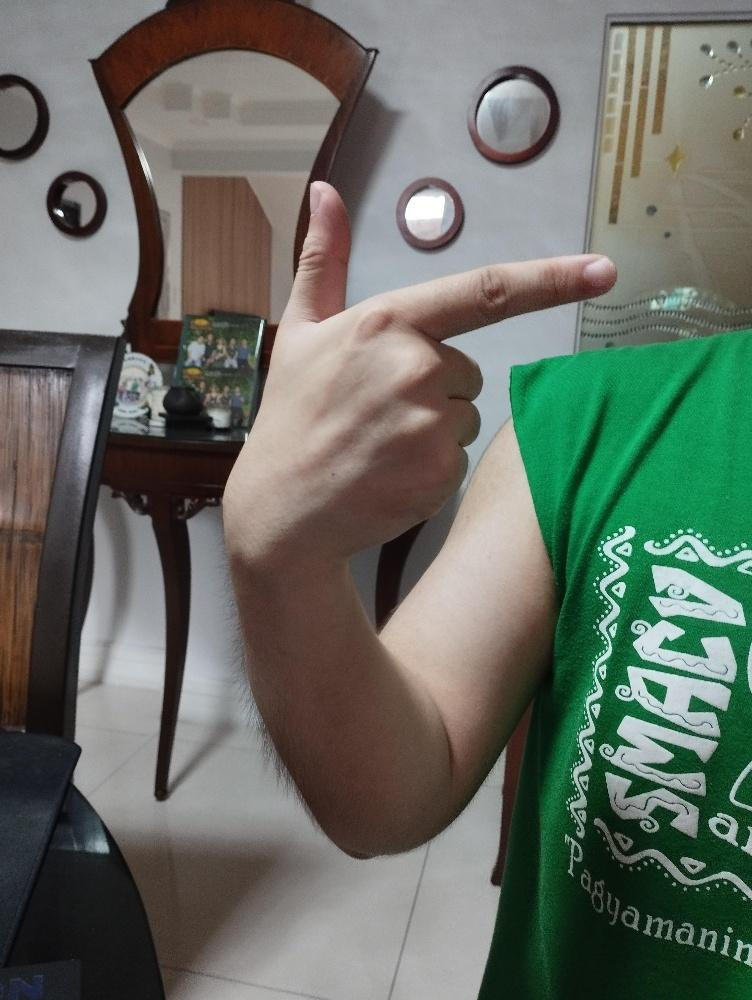g: (217, 175, 621, 564)
